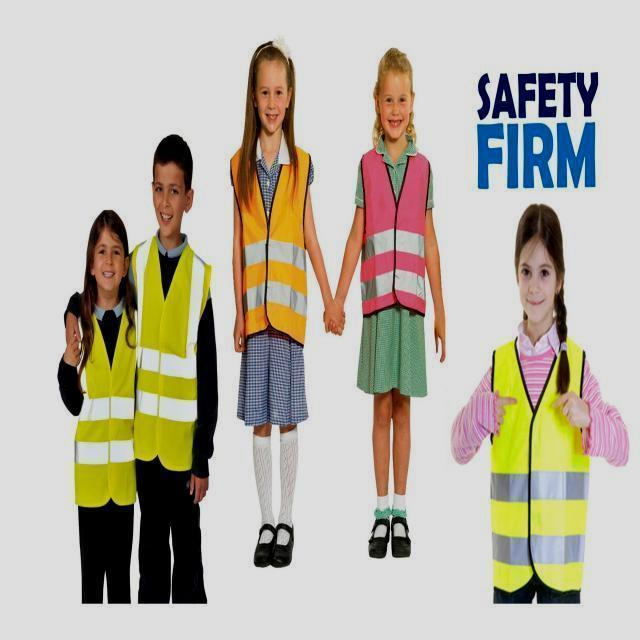vest: (482, 342, 594, 596), (142, 238, 214, 474), (226, 151, 306, 345), (75, 308, 137, 510), (358, 152, 430, 316)
